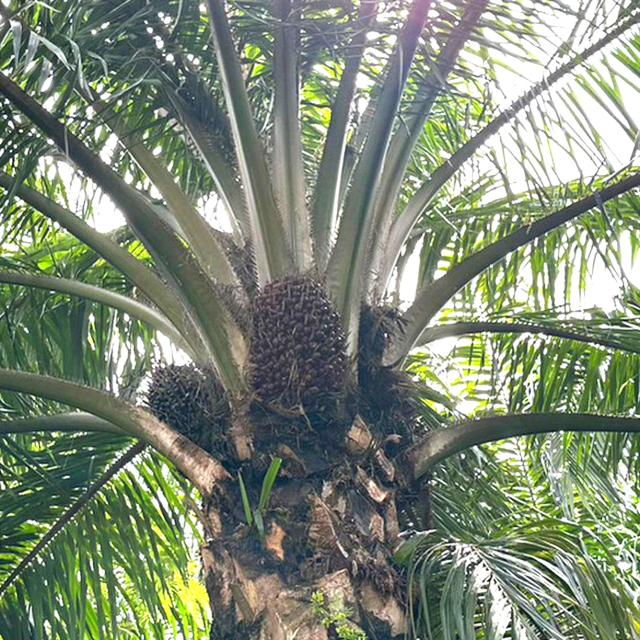ripe: (247, 271, 348, 398), (141, 361, 233, 451)
